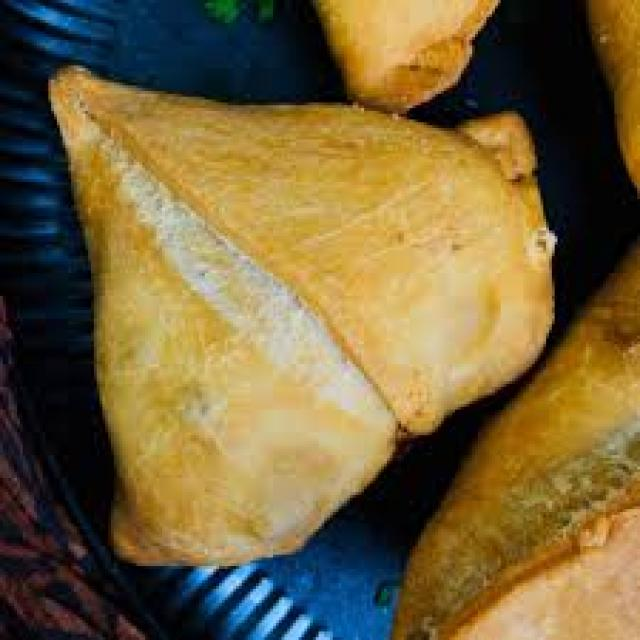SAMOSA: (51, 77, 563, 567), (312, 0, 502, 111)
